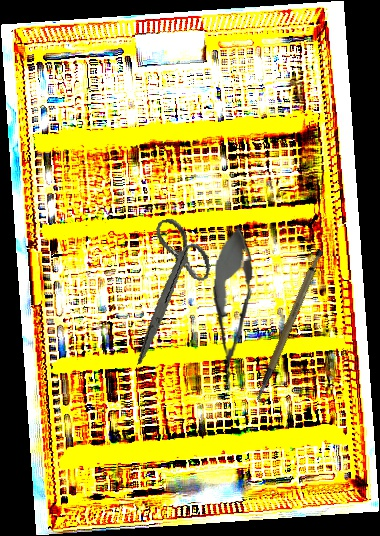Iris Scissors: (107, 212, 228, 365)
Micro Scissor: (207, 224, 257, 392)
Scalpel Handle: (232, 246, 343, 402)
